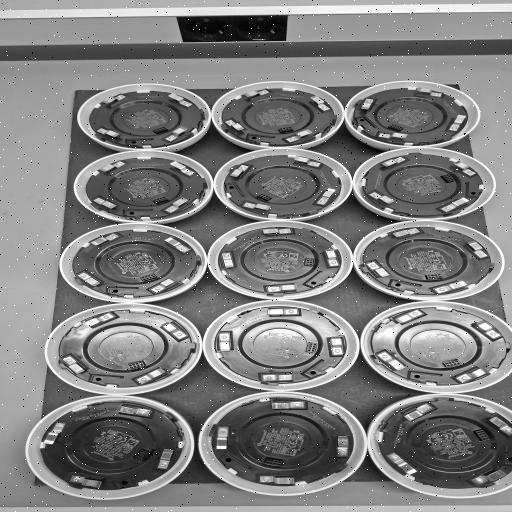konnektor: (473, 429, 490, 442), (254, 192, 274, 202), (135, 450, 149, 462), (263, 458, 284, 466), (151, 195, 169, 204), (440, 173, 456, 183), (138, 273, 158, 281), (303, 256, 316, 268), (442, 359, 461, 367), (306, 342, 318, 353), (128, 361, 144, 369), (388, 124, 405, 131), (425, 273, 442, 280), (153, 126, 168, 133), (278, 126, 293, 133)
yaysiz: (386, 453, 420, 477), (472, 468, 507, 486), (377, 352, 408, 372), (456, 366, 491, 383), (472, 320, 501, 340), (392, 309, 425, 326), (402, 404, 433, 422), (43, 422, 66, 446), (137, 367, 169, 384), (162, 236, 191, 254), (160, 321, 187, 340), (82, 313, 114, 329), (487, 415, 512, 435), (450, 160, 479, 177), (440, 197, 472, 212), (434, 280, 468, 294), (69, 476, 108, 488), (314, 187, 338, 206), (90, 233, 120, 248), (368, 191, 396, 207), (150, 278, 178, 294), (76, 272, 104, 288), (63, 356, 86, 375), (167, 161, 196, 176), (166, 197, 191, 214), (98, 160, 126, 175), (366, 262, 392, 278), (216, 426, 233, 450), (111, 406, 151, 416), (290, 156, 323, 168), (466, 240, 488, 258), (158, 448, 176, 470), (308, 95, 331, 112), (229, 163, 252, 180), (167, 93, 193, 108), (166, 126, 190, 142), (334, 433, 350, 456), (379, 156, 407, 169), (93, 197, 119, 211), (260, 475, 296, 485), (414, 87, 446, 98), (328, 334, 344, 356), (286, 130, 313, 143), (448, 114, 467, 132), (242, 201, 273, 212), (243, 88, 271, 100), (268, 401, 305, 410), (224, 119, 247, 133), (101, 94, 127, 106), (96, 128, 122, 140), (219, 333, 233, 355), (390, 228, 420, 238), (267, 284, 303, 292), (324, 248, 339, 267), (378, 132, 409, 141), (221, 252, 236, 270), (262, 374, 300, 381), (260, 228, 292, 236), (360, 98, 376, 112), (264, 309, 298, 315)
